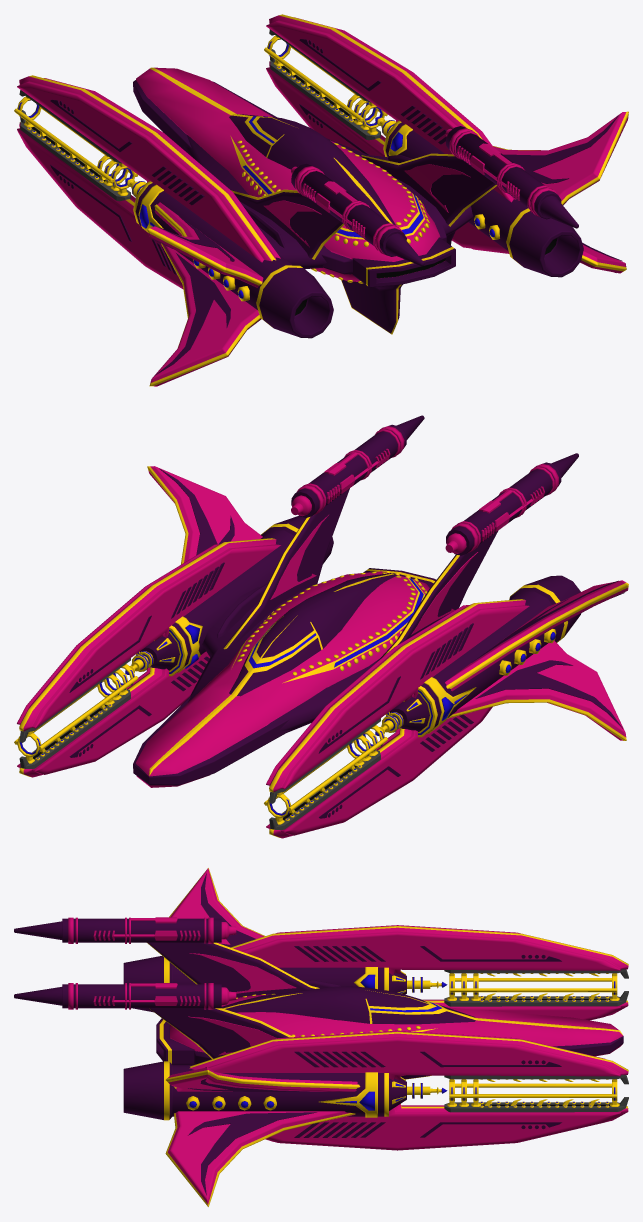
Rendered from AlienStarfighter32.obj.
3 renders of one model, top to bottom at view 1: azimuth 30°, elevation 25°; view 2: azimuth 150°, elevation 25°; view 3: azimuth 270°, elevation 25°, orthographic. The views are drawn at different scales.
Parts seen in each view (by area): view 1: Cylinder.003_Cylinder.005, Sphere.002_Sphere.004, Cylinder.001_Cylinder.006, Cube.001, Cube.005, Cylinder.004_Cylinder.002, Cube.004_Cube.002, Sphere.001_Sphere.003, Cylinder.010_Cylinder.003, Cube.006, Cylinder.006_Cylinder.007, Cube.019_Cube.034 (+11 smaller); view 2: Cylinder.003_Cylinder.005, Sphere.002_Sphere.004, Cylinder.001_Cylinder.006, Sphere.001_Sphere.003, Cube.001, Cube.005, Cylinder.004_Cylinder.002, Cube.004_Cube.002, Cylinder.010_Cylinder.003, Cube.006, Cube.010, Cube.019_Cube.034 (+8 smaller); view 3: Cylinder.003_Cylinder.005, Cylinder.001_Cylinder.006, Sphere.002_Sphere.004, Cylinder.004_Cylinder.002, Cube.001, Sphere.001_Sphere.003, Cube.004_Cube.002, Cube.006, Cube.005, Cylinder.022_Cylinder.030, Cube.010, Cube.017_Cube.028 (+8 smaller).
Boxes of the visible parts, left/top/right/bottom form: Cylinder.003_Cylinder.005: left=17, top=14, right=516, bottom=288; Sphere.002_Sphere.004: left=133, top=67, right=455, bottom=287; Cylinder.001_Cylinder.006: left=125, top=116, right=583, bottom=338; Cube.001: left=230, top=153, right=496, bottom=259; Cube.005: left=147, top=111, right=628, bottom=287; Cylinder.004_Cylinder.002: left=291, top=126, right=578, bottom=266; Cube.004_Cube.002: left=149, top=243, right=626, bottom=386; Sphere.001_Sphere.003: left=229, top=114, right=395, bottom=225; Cylinder.010_Cylinder.003: left=183, top=135, right=473, bottom=269; Cube.006: left=19, top=29, right=380, bottom=201; Cylinder.006_Cylinder.007: left=341, top=280, right=402, bottom=334; Cube.019_Cube.034: left=155, top=243, right=622, bottom=375; Cylinder.003_Cylinder.005: left=17, top=538, right=529, bottom=838; Sphere.002_Sphere.004: left=133, top=568, right=436, bottom=787; Cylinder.001_Cylinder.006: left=125, top=516, right=581, bottom=737; Sphere.001_Sphere.003: left=229, top=573, right=397, bottom=696; Cube.001: left=223, top=488, right=498, bottom=661; Cube.005: left=147, top=466, right=628, bottom=691; Cylinder.004_Cylinder.002: left=291, top=415, right=578, bottom=555; Cube.004_Cube.002: left=447, top=640, right=626, bottom=740; Cylinder.010_Cylinder.003: left=188, top=586, right=379, bottom=732; Cube.006: left=19, top=658, right=380, bottom=830; Cube.010: left=171, top=562, right=473, bottom=751; Cube.019_Cube.034: left=475, top=660, right=622, bottom=728; Cylinder.003_Cylinder.005: left=189, top=925, right=628, bottom=1150; Cylinder.001_Cylinder.006: left=123, top=956, right=447, bottom=1120; Sphere.002_Sphere.004: left=156, top=994, right=623, bottom=1076; Cylinder.004_Cylinder.002: left=14, top=918, right=236, bottom=1008; Cube.001: left=147, top=942, right=319, bottom=1059; Sphere.001_Sphere.003: left=221, top=986, right=476, bottom=1024; Cube.004_Cube.002: left=165, top=1111, right=355, bottom=1206; Cube.006: left=444, top=969, right=628, bottom=1112; Cube.005: left=166, top=868, right=360, bottom=1091; Cylinder.022_Cylinder.030: left=449, top=978, right=616, bottom=1097; Cube.010: left=294, top=946, right=385, bottom=1137; Cube.017_Cube.028: left=188, top=953, right=296, bottom=1055.
Size of the model in its own units: 6.19 by 2.28 by 7.88.
